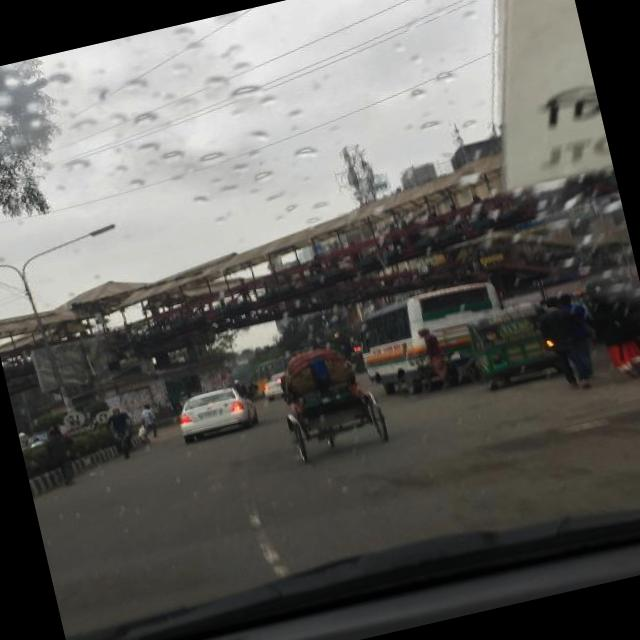bus: (352, 275, 510, 382), (252, 356, 290, 392)
car: (175, 381, 261, 442), (261, 374, 284, 401)
motorcycle: (274, 334, 392, 462), (466, 298, 564, 391), (393, 346, 481, 400)
